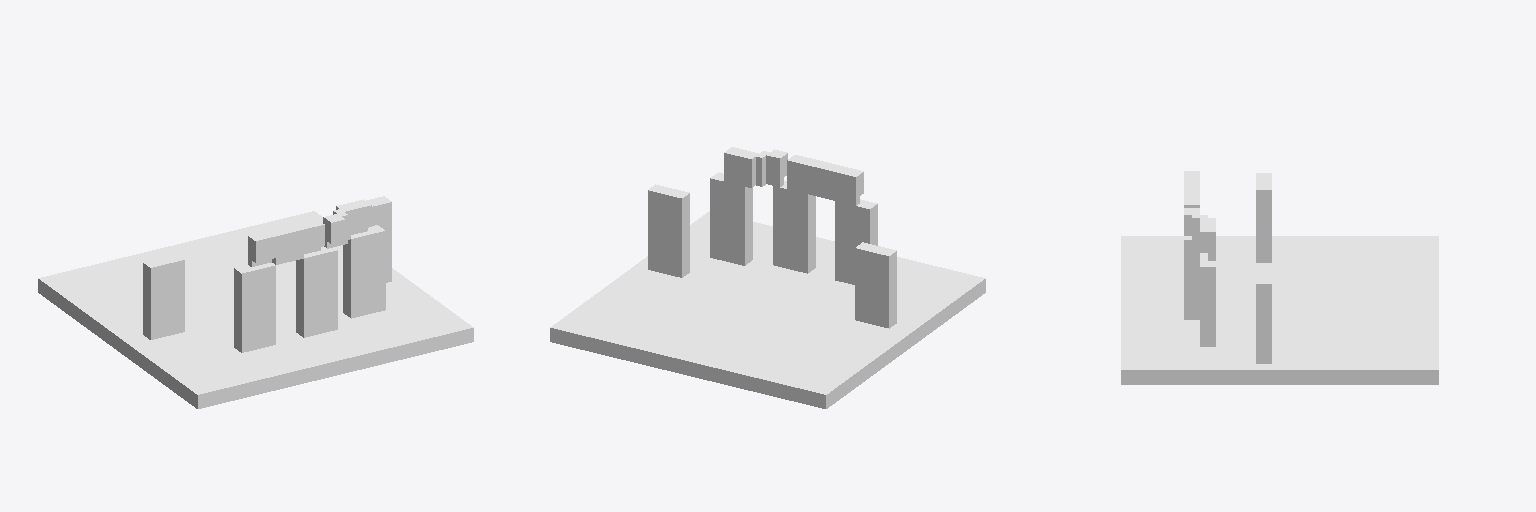
File: Stonehenge.obj
3 renders of one model, left to right at view 1: azimuth 30°, elevation 25°; view 2: azimuth 150°, elevation 25°; view 3: azimuth 270°, elevation 25°, orthographic.
Parts seen in each view (by area): view 1: object 1; view 2: object 1; view 3: object 1.
Boxes of the visible parts, <box> form: object 1: <box>38,196,473,408</box>; object 1: <box>550,147,985,408</box>; object 1: <box>1121,171,1438,384</box>.
Size of the model in its own units: 4 by 1.7 by 4.